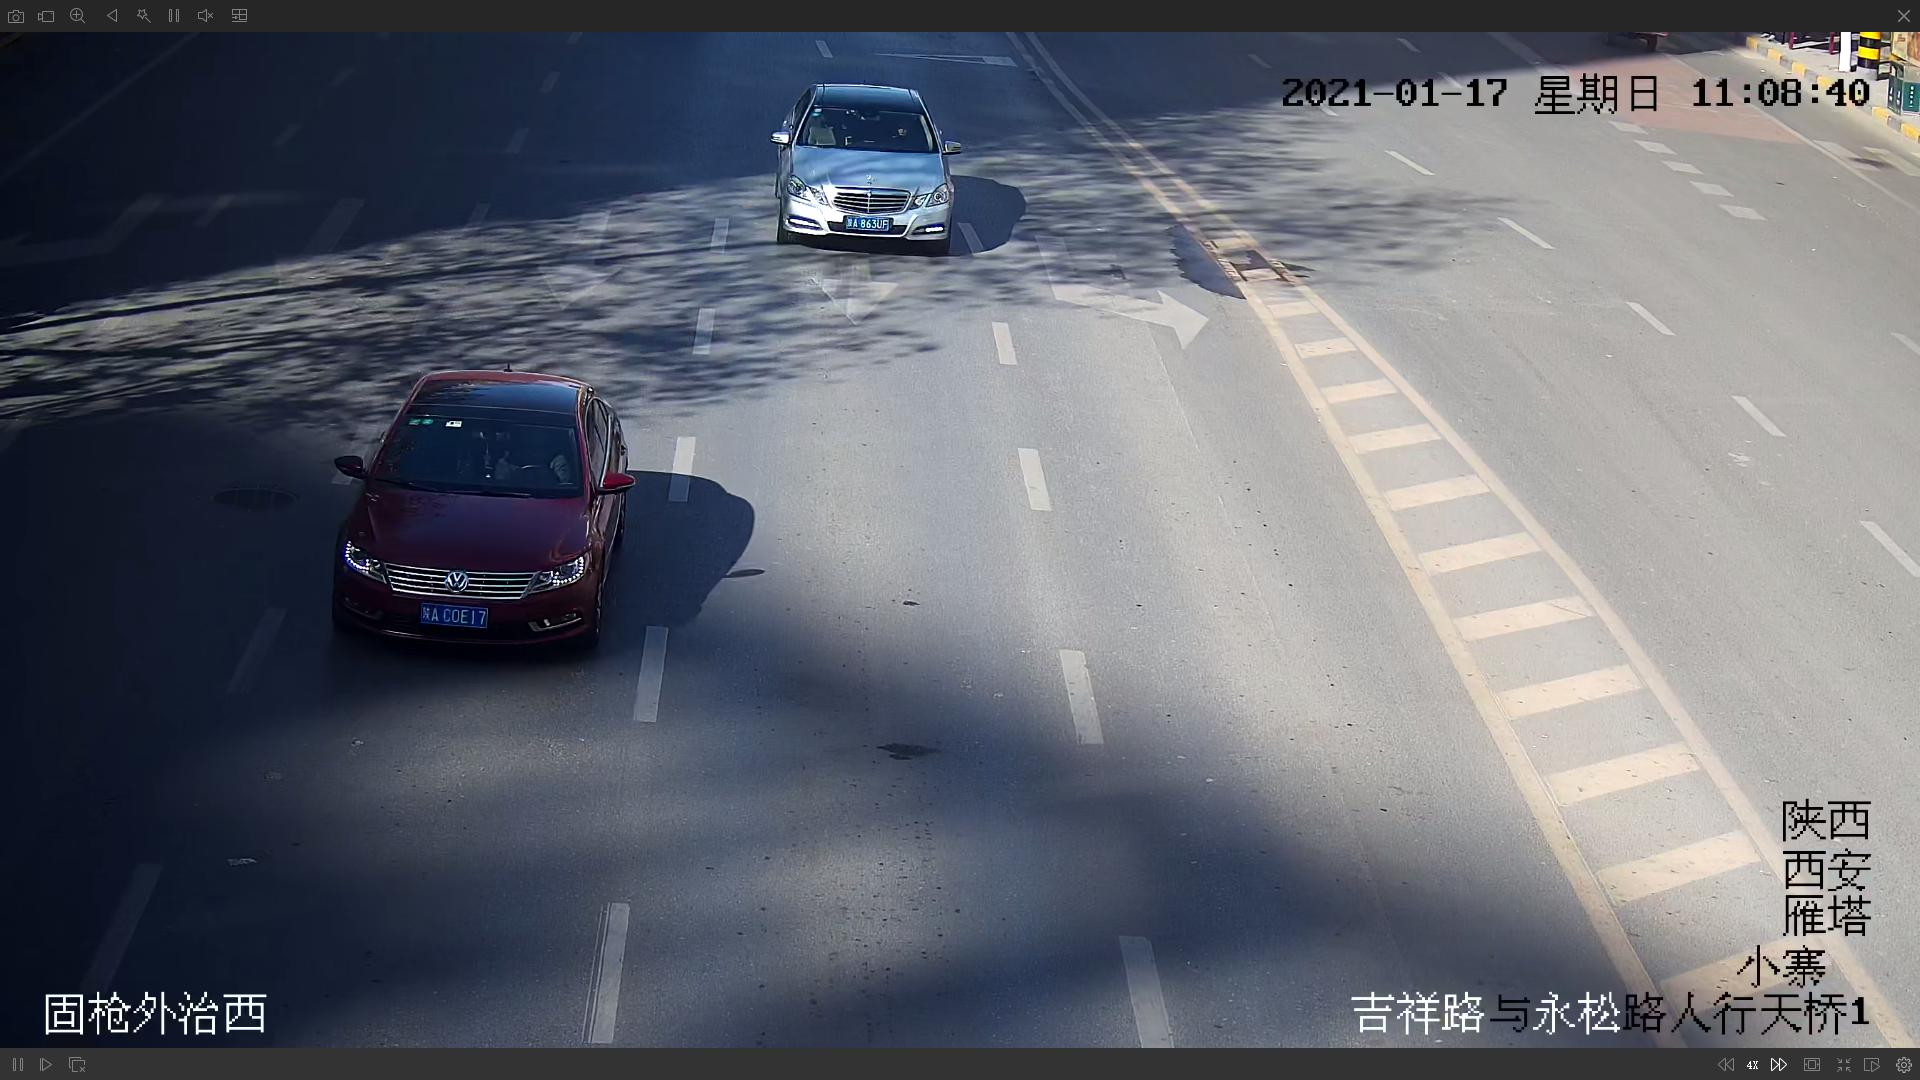dark-red: (327, 363, 632, 670)
silver-gray: (766, 80, 956, 255)
